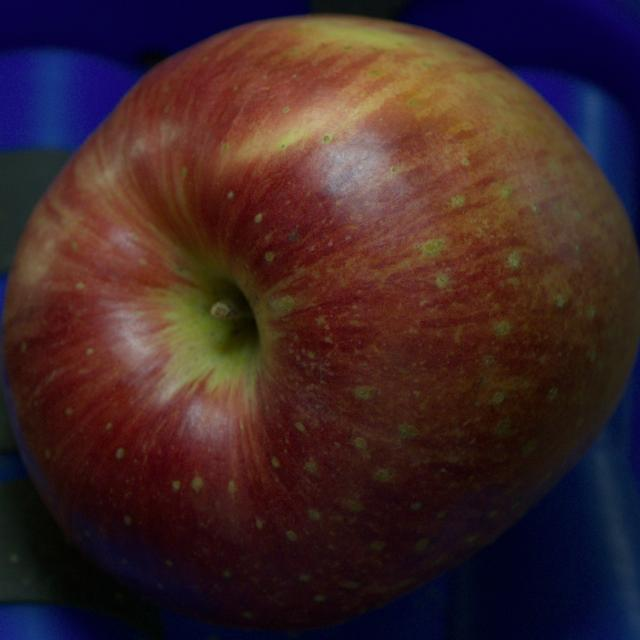apple: (0, 18, 639, 628)
